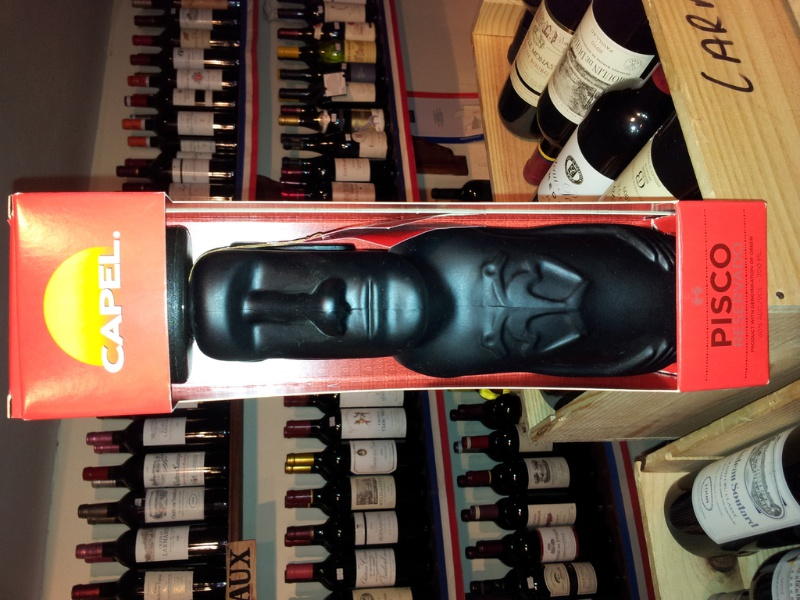wine: (64, 1, 744, 195), (66, 418, 614, 600), (657, 420, 800, 597)
